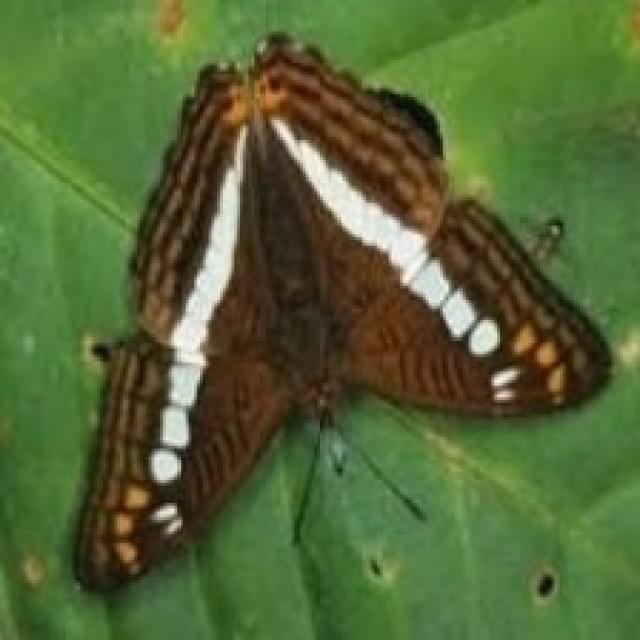butterfly: (69, 26, 614, 594)
